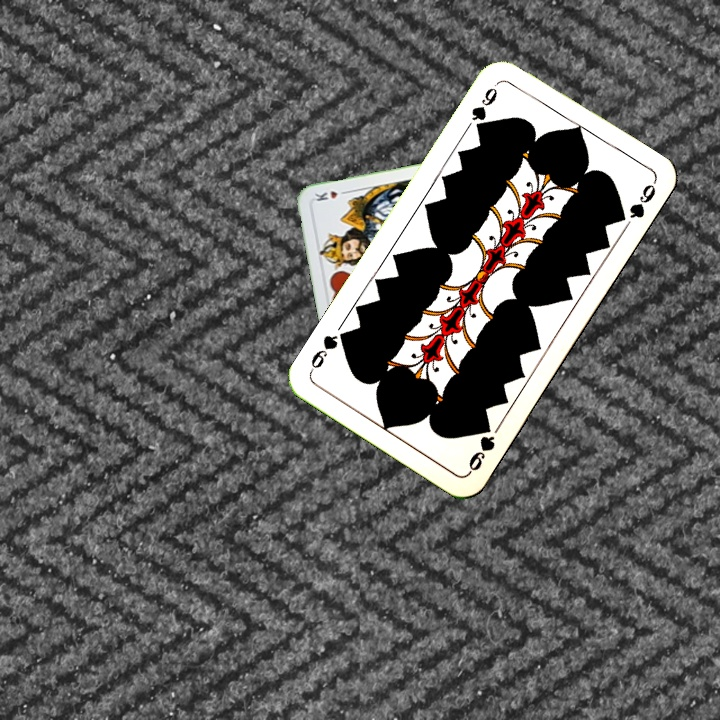G9: (463, 79, 501, 135), (464, 418, 498, 476)
